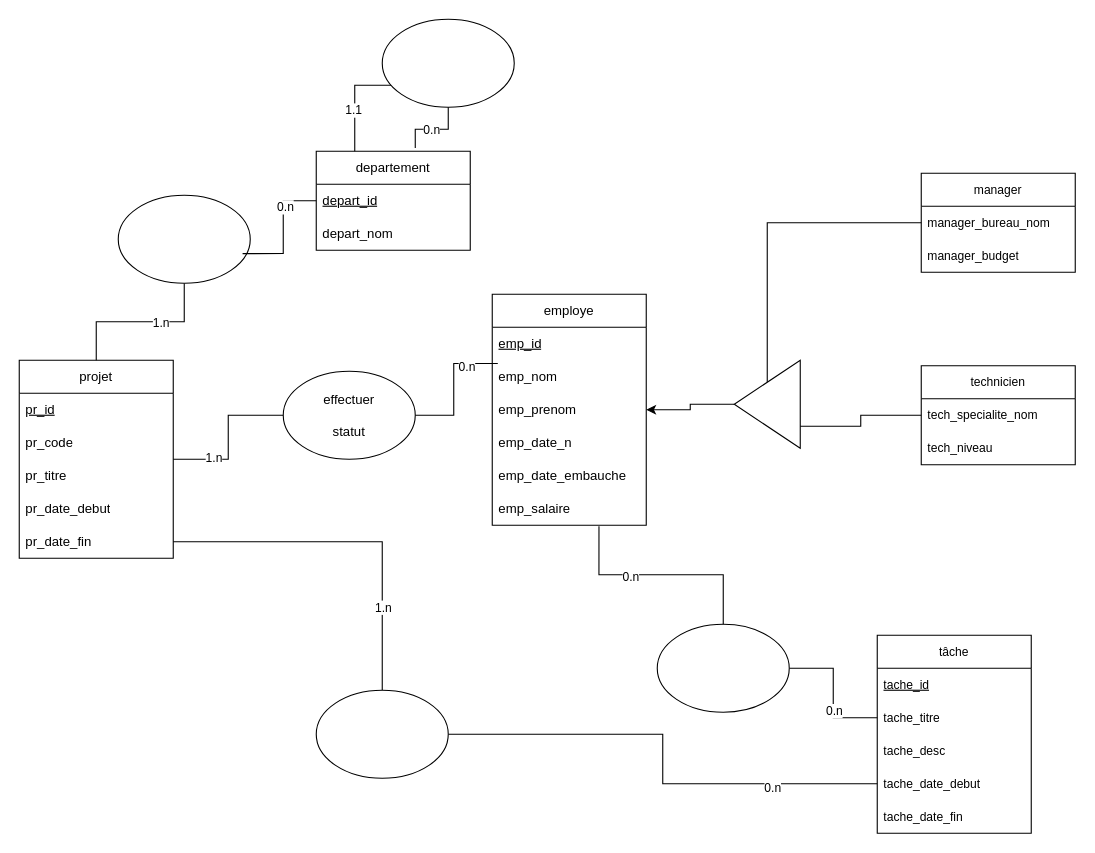
Image size: 1095x853. Some labels were removed from this diagram. The shapes that lost their labels are listed below. From the top down, each one's centre as x and y in pixels, then its label:
At pixel 447 62: "contenir".
At pixel 183 238: "attacher".
At pixel 722 667: "realiser statut".
At pixel 381 733: "appartenir".
